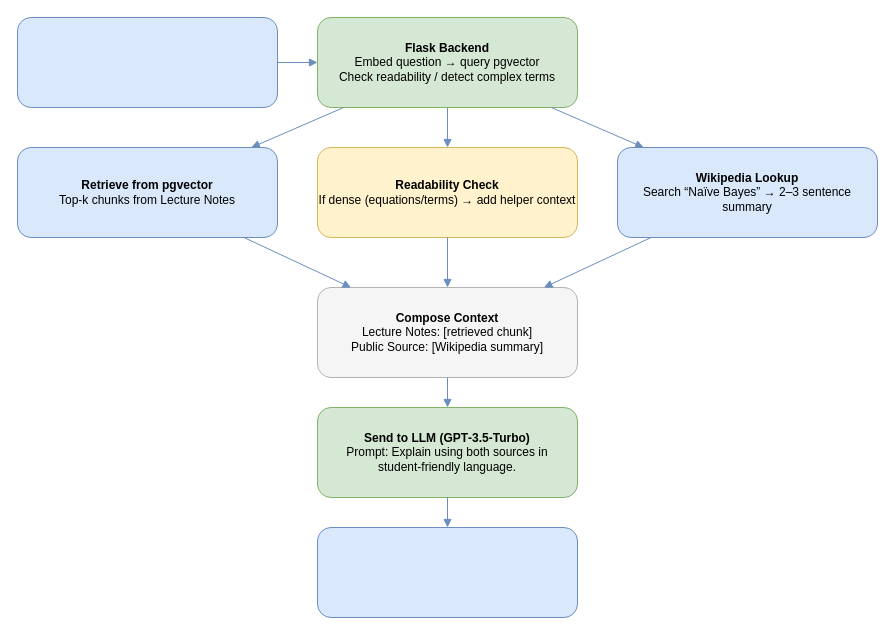
This 895x635 diagram has some shape labels left out. The shapes that lost their labels are listed below. From the top down, each one's centre as x and y in pixels, then its label:
At (x=147, y=62): "User Question “Explain Naïve Bayes in simple terms.”".
At (x=447, y=572): "Return Answer Merged, clear explanation → frontend".
